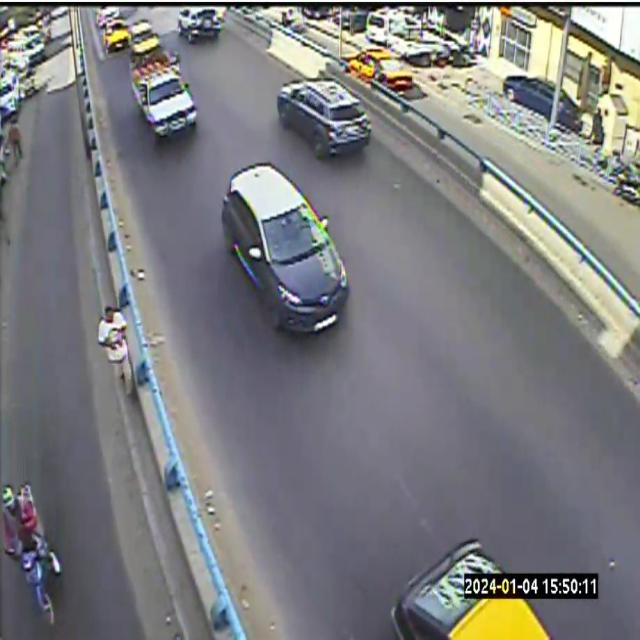car: (221, 163, 349, 331), (392, 540, 550, 639), (277, 79, 371, 157), (129, 45, 197, 137), (178, 6, 223, 42), (103, 18, 129, 51)
